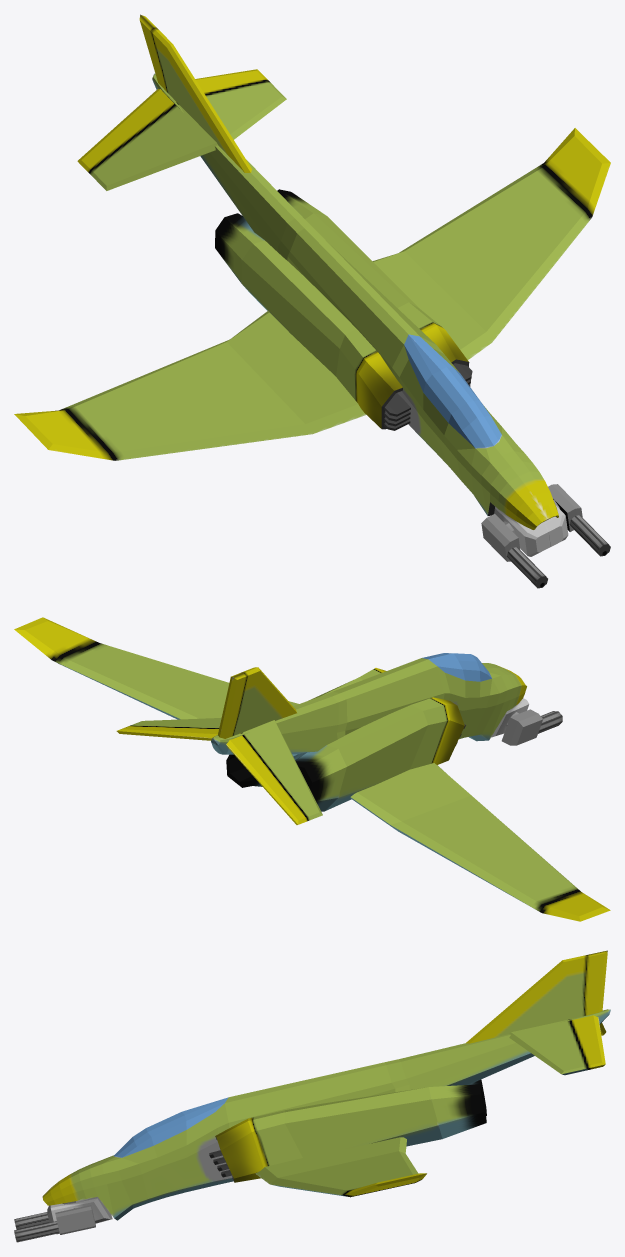
The model's file is ArenaMiscSpectre.fbx.
The picture shows the model from 3 angles, top to bottom: view 1: azimuth 30°, elevation 25°; view 2: azimuth 150°, elevation 25°; view 3: azimuth 270°, elevation 25°; orthographic projection. The views are drawn at different scales.
Visible parts, largest first — view 1: Airframe; view 2: Airframe; view 3: Airframe.
Part boxes in pixels (left/top/right/bottom): Airframe: left=14, top=14, right=610, bottom=588; Airframe: left=14, top=617, right=610, bottom=921; Airframe: left=14, top=950, right=610, bottom=1242.
Size of the model in its own units: 1097 by 597 by 1225.
Materials: 1 (1 with a texture image).
